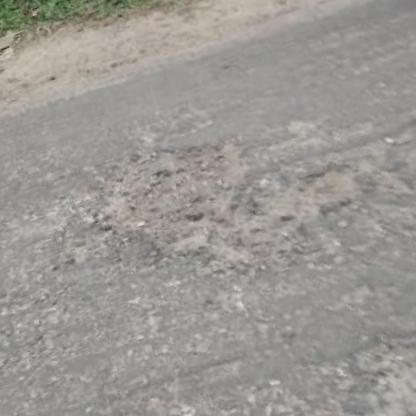pothole: (74, 76, 375, 310)
